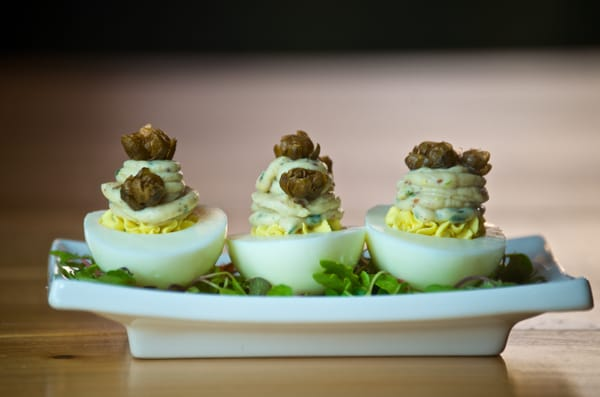sushi: (363, 202, 514, 291), (228, 226, 370, 294)
